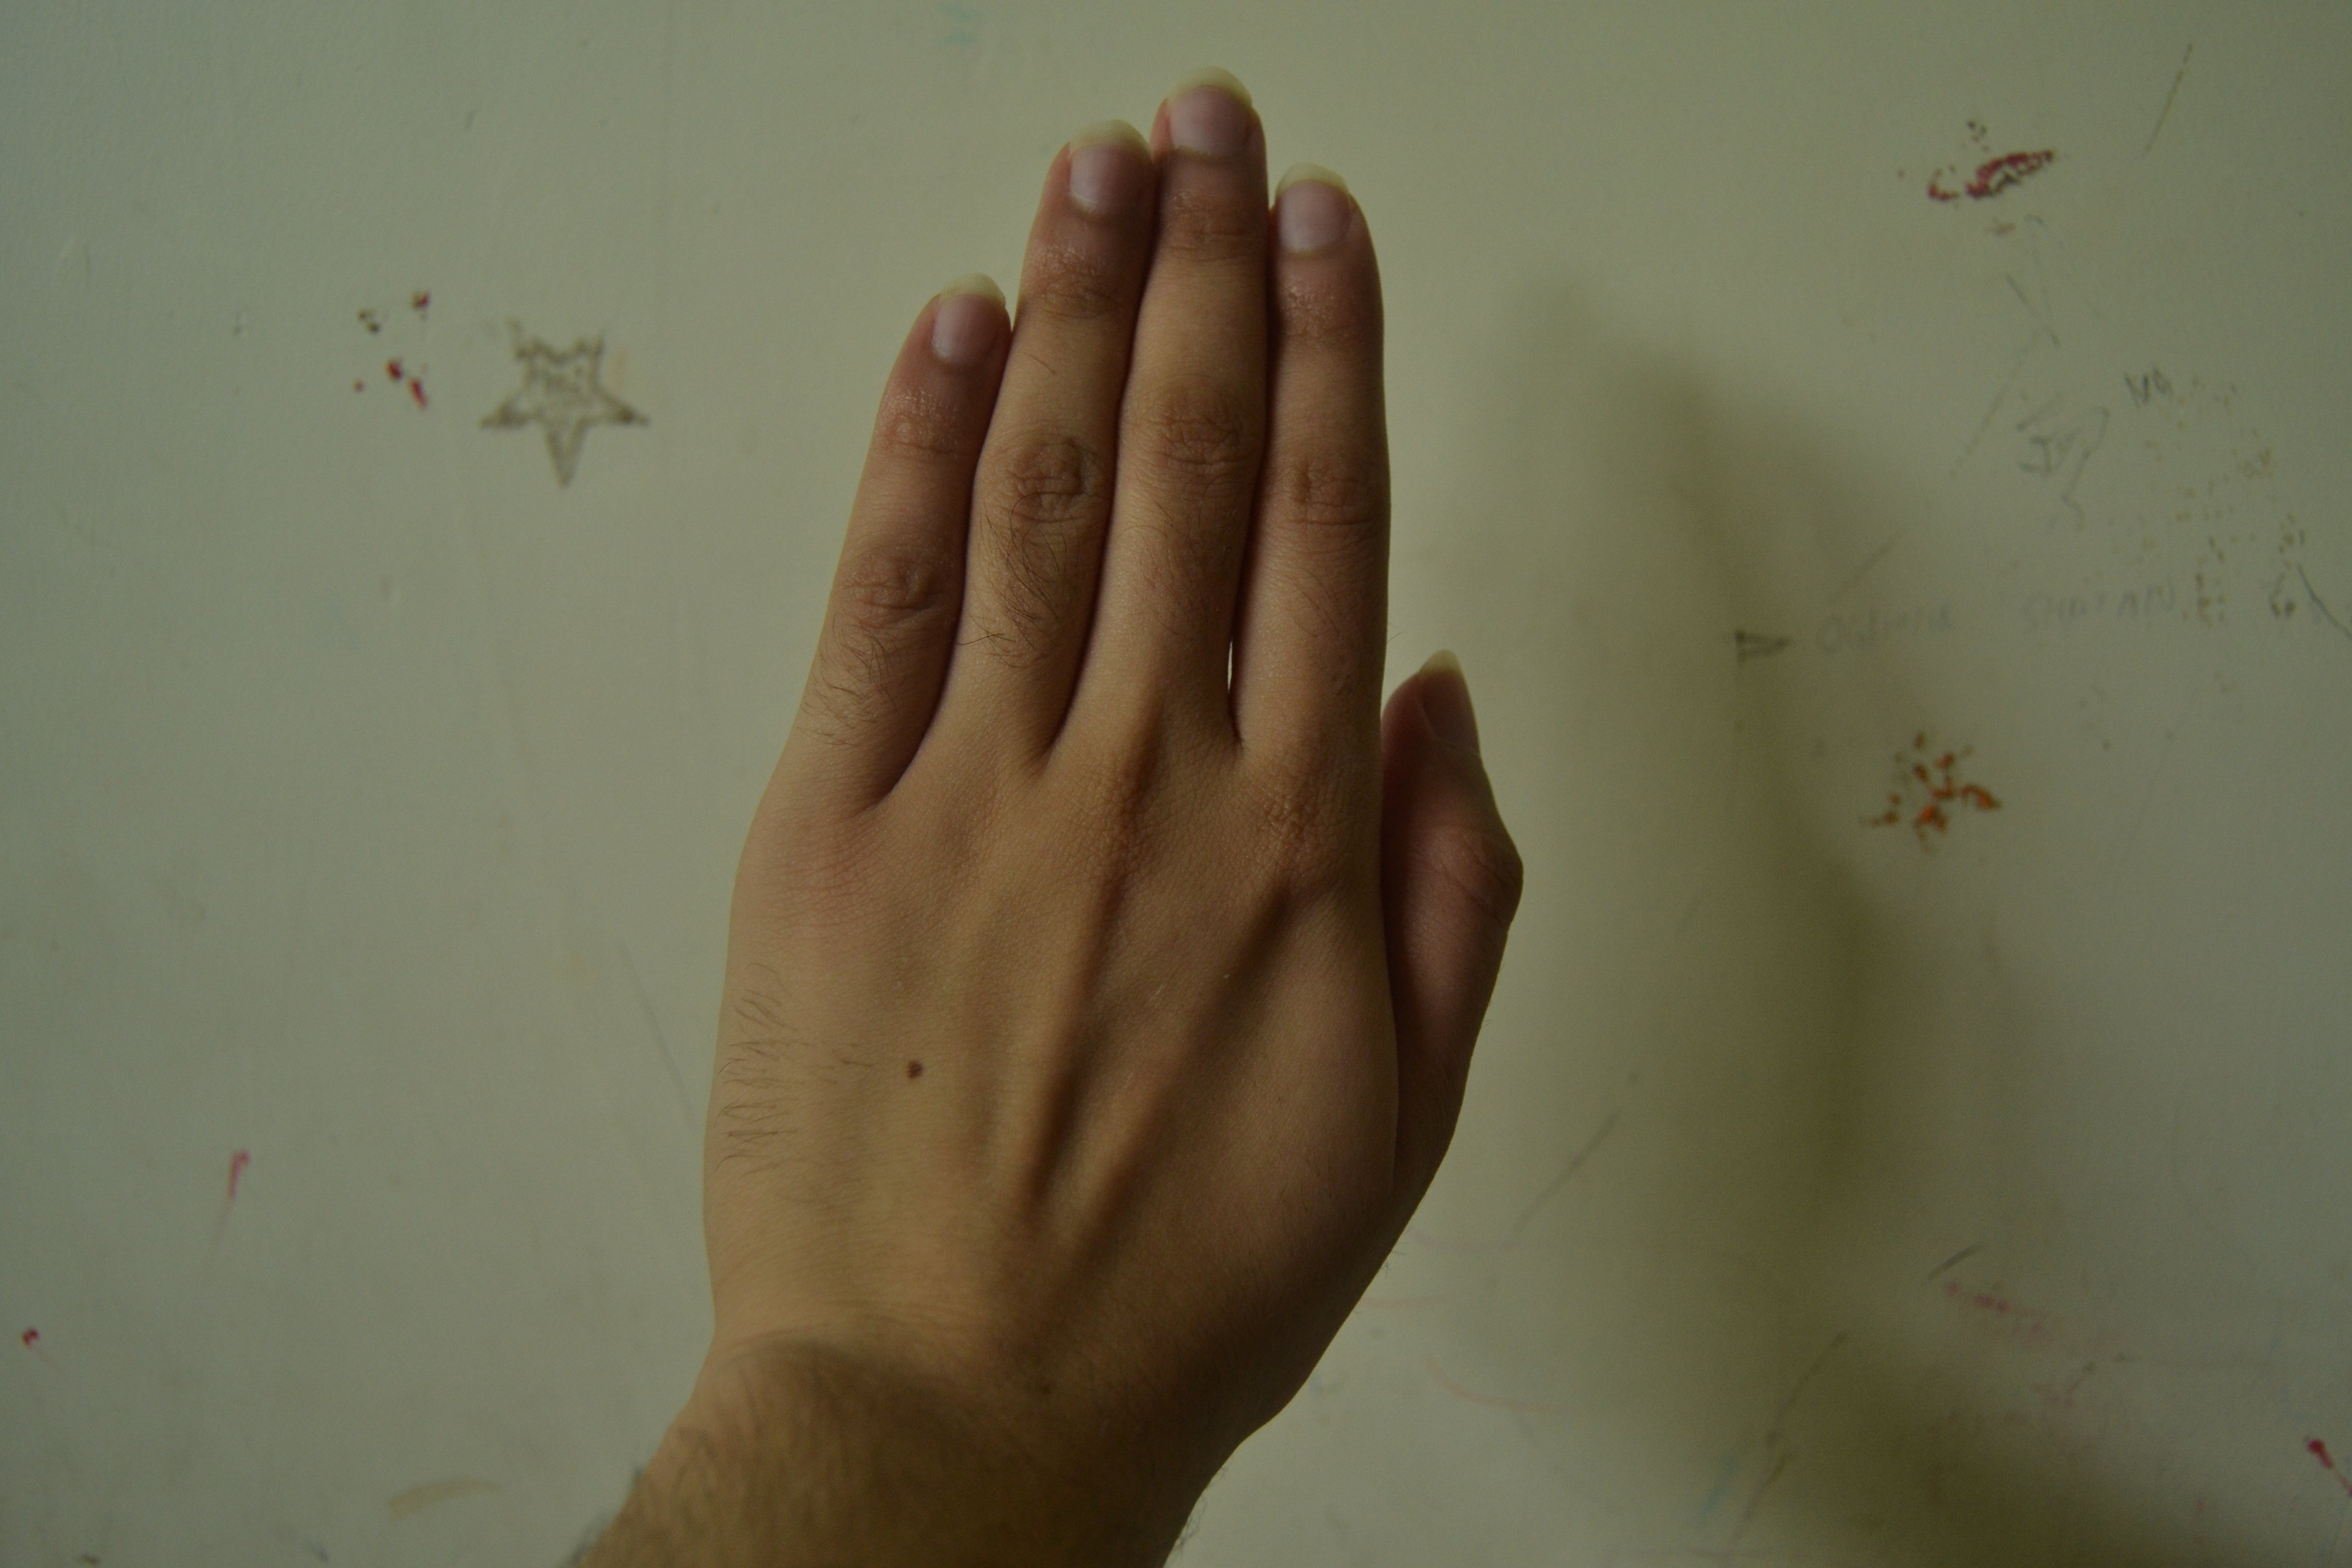move: (675, 30, 1580, 1363)
